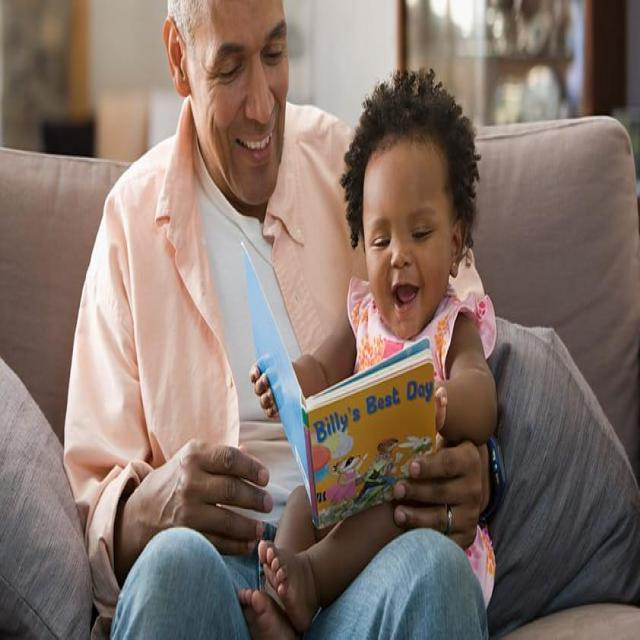child: (240, 65, 500, 640)
